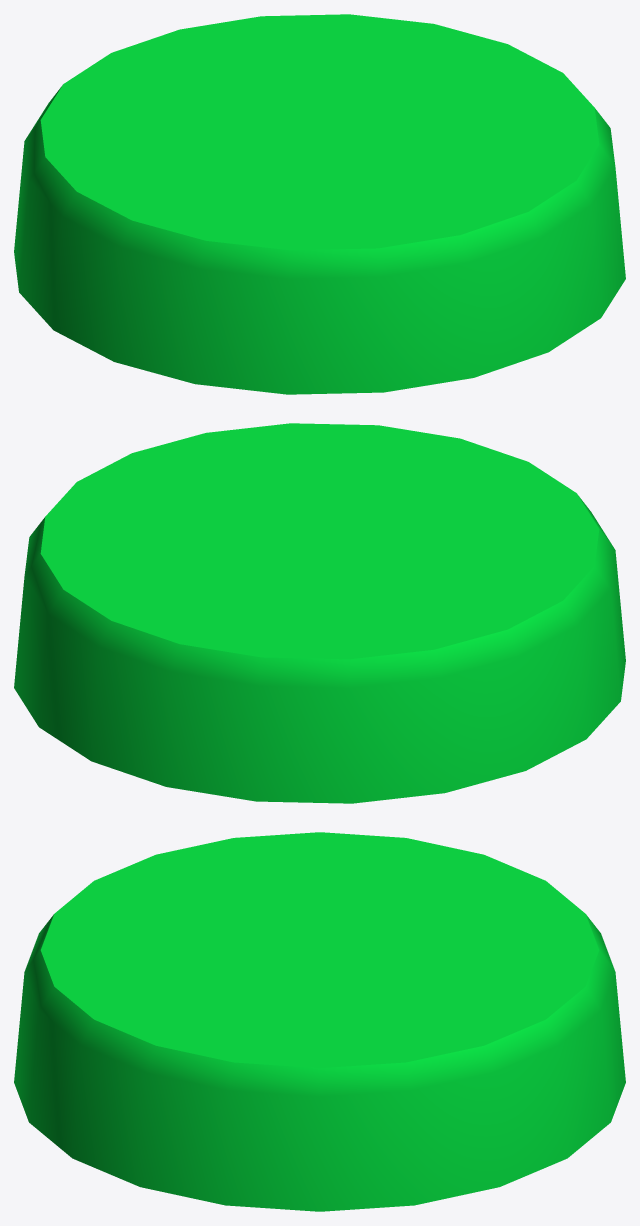
The model's file is Code_Machine_07_Button.fbx.
3 views of the same model, one above another, from view 1: azimuth 30°, elevation 25°; view 2: azimuth 150°, elevation 25°; view 3: azimuth 270°, elevation 25° (orthographic).
Visible parts, largest first — view 1: Code_Machine_07_Button; view 2: Code_Machine_07_Button; view 3: Code_Machine_07_Button.
Boxes of the visible parts, box(x1,y1,x2,y2) form: Code_Machine_07_Button: box(14, 14, 625, 394); Code_Machine_07_Button: box(14, 423, 625, 803); Code_Machine_07_Button: box(14, 832, 625, 1211).
Size of the model in its own units: 2.22 by 0.5292 by 2.22.
